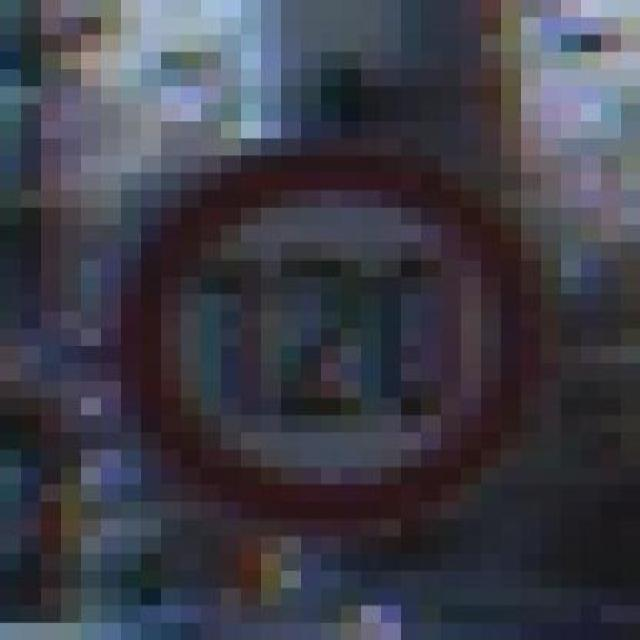forb_speed_over_120: (134, 166, 526, 514)
